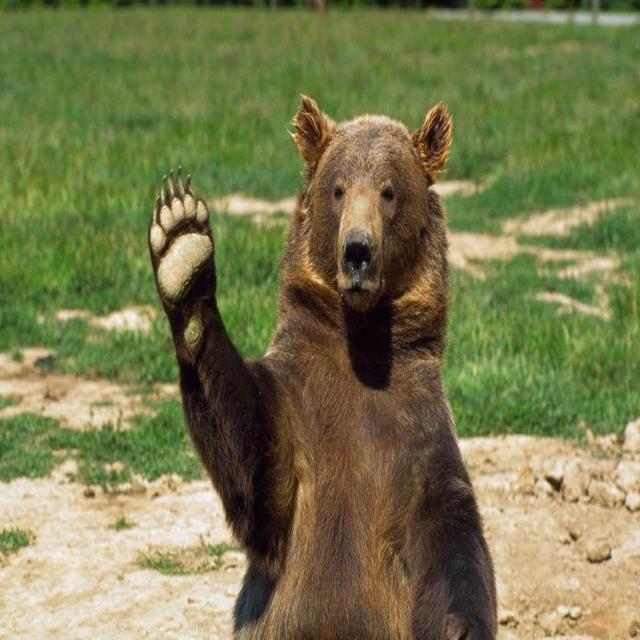Bear: (147, 95, 499, 640)
